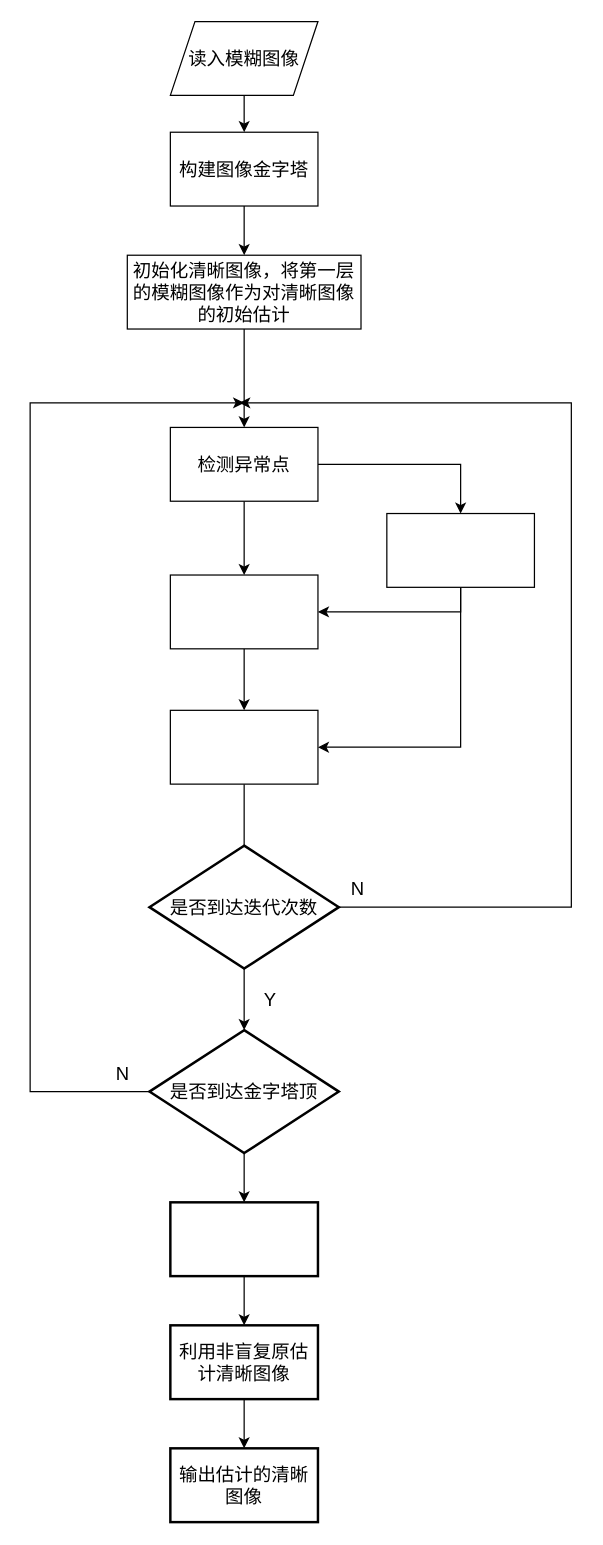
The diagram is 603 pixels wide and 1545 high, and some of its shapes have lost their labels. The shapes that lost their labels are listed below. From the top down, each one's centre as x and y in pixels, then its label:
At (x=460, y=549): "计算权重矩阵".
At (x=243, y=611): "估计清晰图像".
At (x=243, y=746): "估计模糊核".
At (x=244, y=1238): "输出估计的模糊核".
